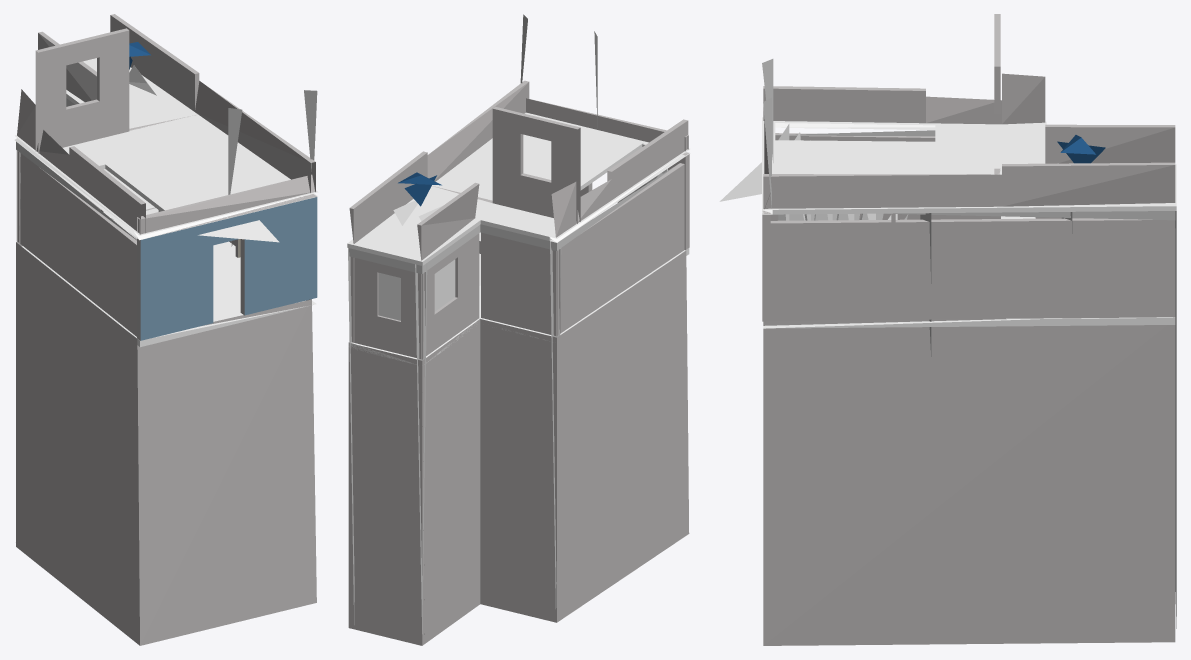
3 views of the same model, side by side, from view 1: azimuth 30°, elevation 25°; view 2: azimuth 150°, elevation 25°; view 3: azimuth 270°, elevation 25° (orthographic). The views are drawn at different scales.
Parts seen in each view (by area): view 1: F_34; view 2: F_34; view 3: F_34.
Boxes of the visible parts, left/top/right/bottom form: F_34: left=14, top=14, right=318, bottom=645; F_34: left=347, top=14, right=690, bottom=645; F_34: left=719, top=14, right=1176, bottom=645.
Bounding box in the file's own units: 5.06 × 13.83 × 10.54.
